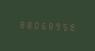eight: (24, 18, 30, 30), (45, 19, 51, 31), (17, 18, 23, 29), (66, 21, 72, 32)
five: (59, 20, 65, 31)
nine: (52, 20, 58, 31)
six: (38, 19, 44, 30)
zero: (31, 19, 37, 30)
